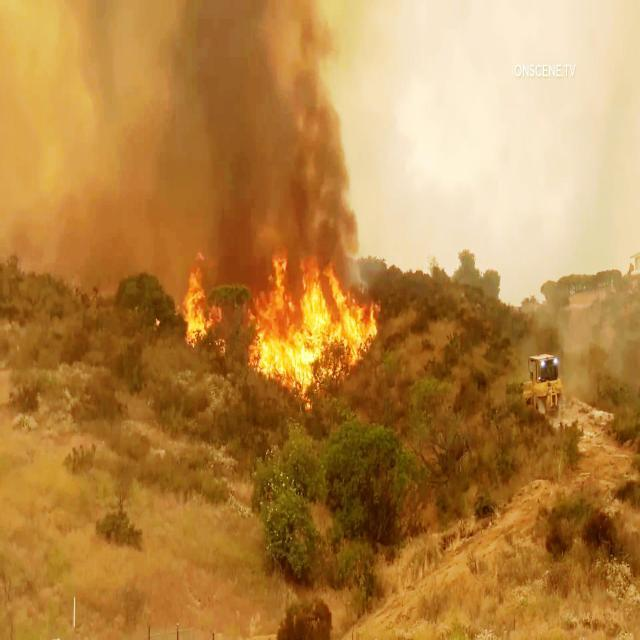Fire: (248, 252, 372, 392), (174, 274, 223, 362)
Smoke: (0, 10, 359, 268)
